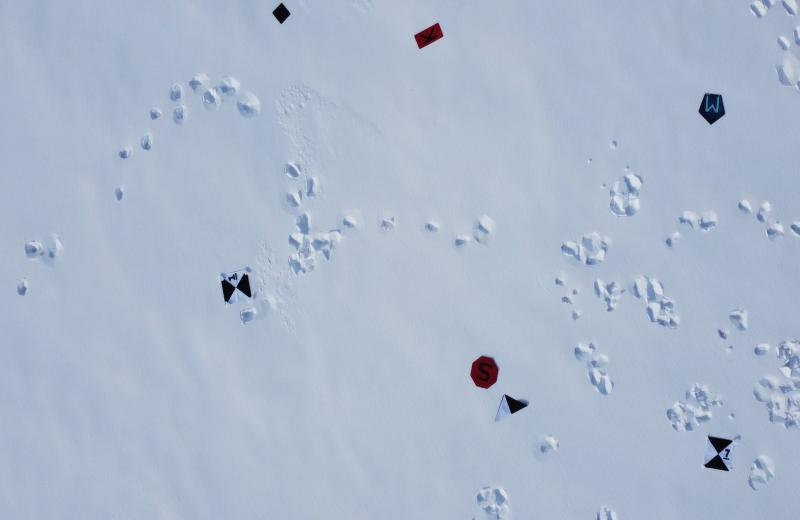Octagon: (468, 353, 501, 392)
Pentagon: (695, 90, 730, 128)
Rectangle: (410, 20, 446, 52)
Square: (267, 0, 294, 27)
